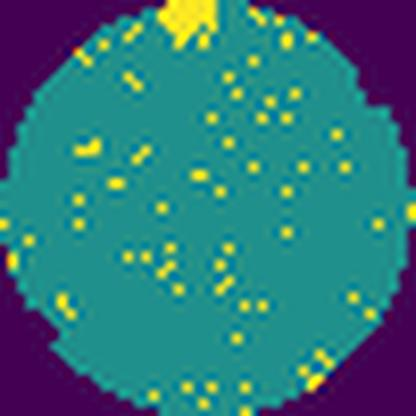Edge-Loc: (154, 0, 223, 58)
